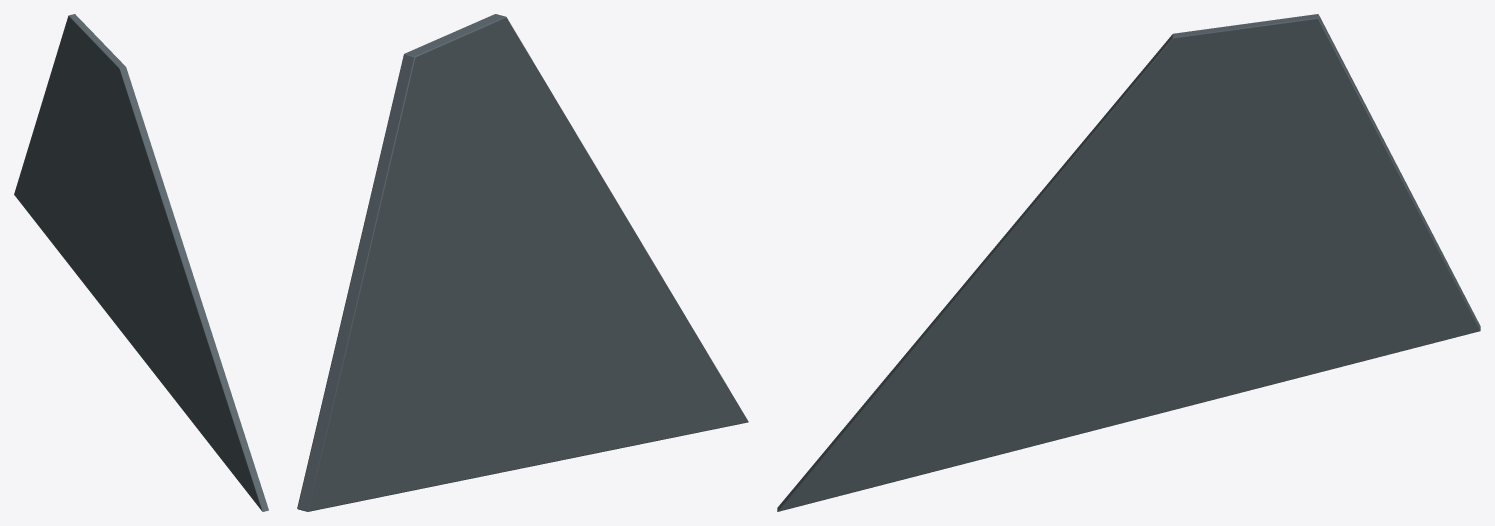
3 renders of one model, left to right at view 1: azimuth 30°, elevation 25°; view 2: azimuth 150°, elevation 25°; view 3: azimuth 270°, elevation 25°, orthographic. The views are drawn at different scales.
Visible parts, largest first — view 1: Cube.008; view 2: Cube.008; view 3: Cube.008.
Boxes of the visible parts, x1=… form: Cube.008: x1=14, y1=14, x2=268, y2=511; Cube.008: x1=297, y1=14, x2=748, y2=511; Cube.008: x1=777, y1=14, x2=1480, y2=511.
Size of the model in its own units: 0.0927 by 2.72 by 3.52.
1 material, 1 textured.
